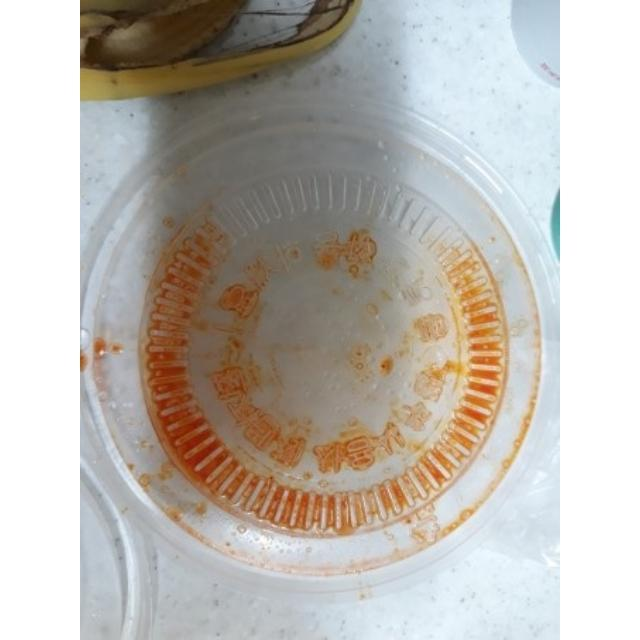Recipiente plastico: (88, 113, 545, 552)
